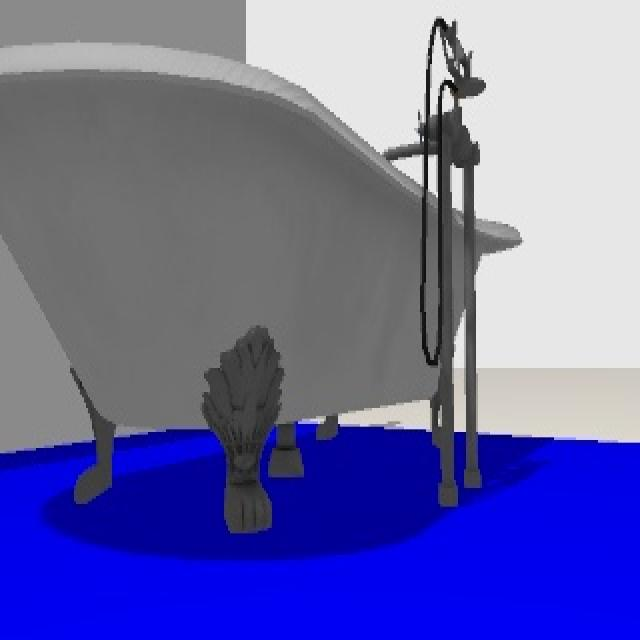bathtub: (2, 19, 520, 546)
